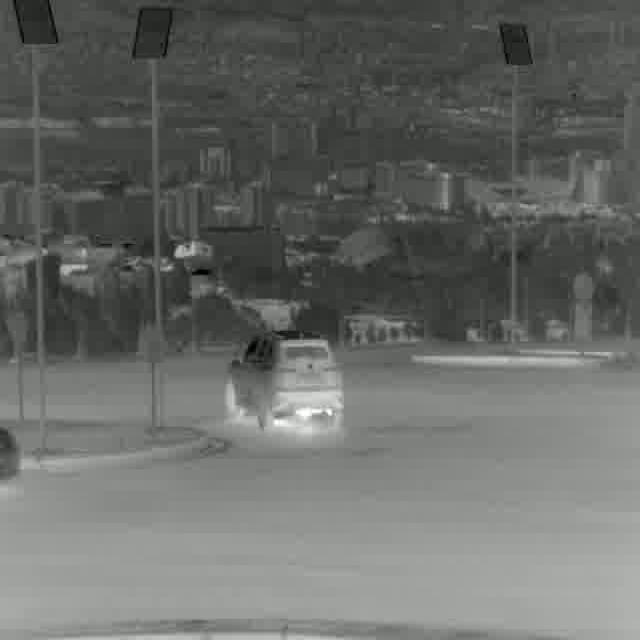Car: (223, 326, 345, 443), (0, 425, 20, 487)
